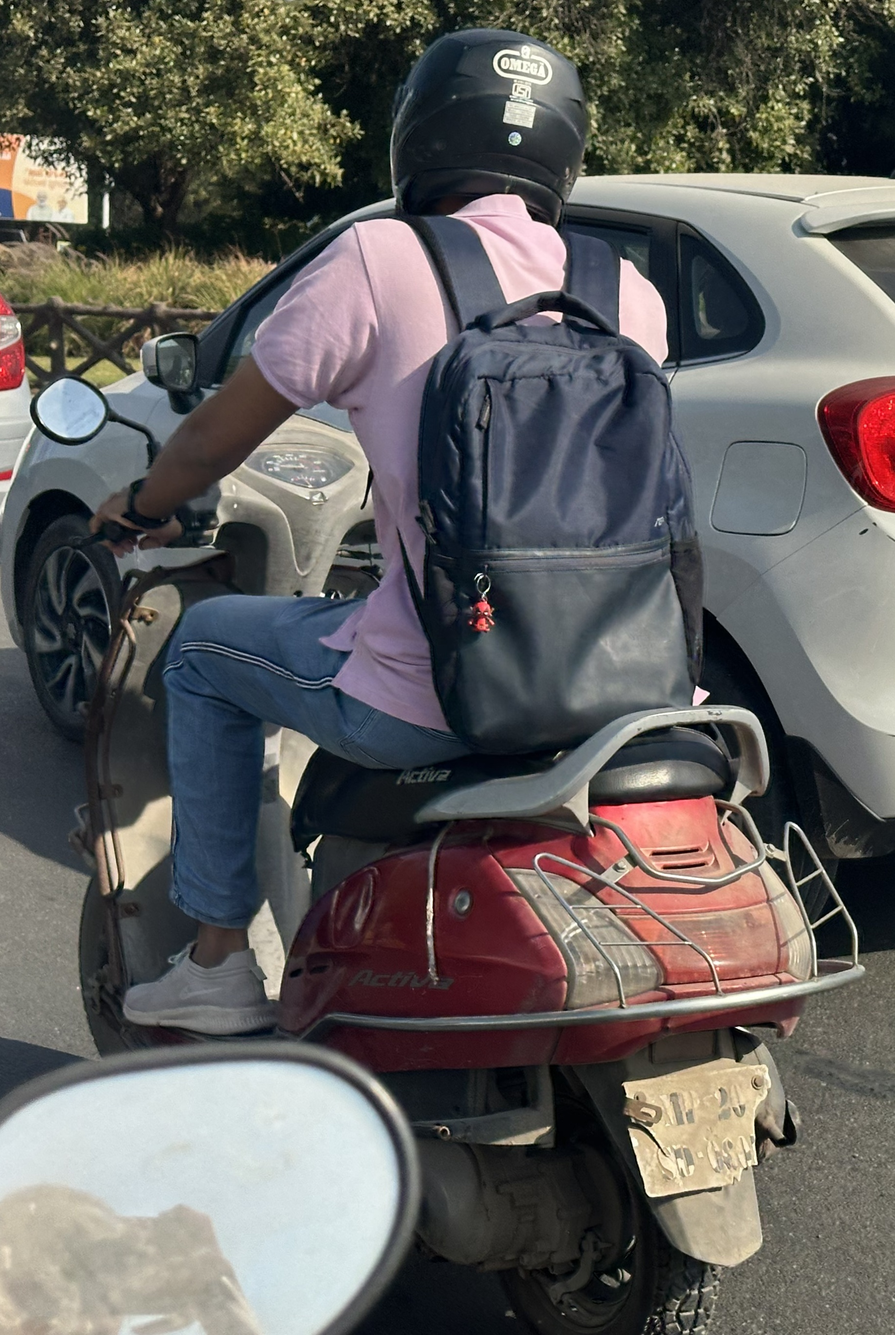BikeWithRider: (3, 17, 879, 1335)
Helmet: (370, 16, 607, 240)
